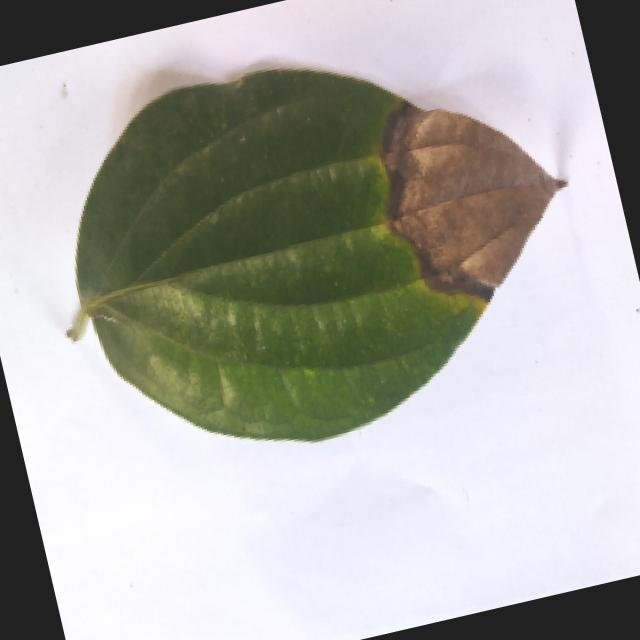footrot: (18, 7, 605, 493)
